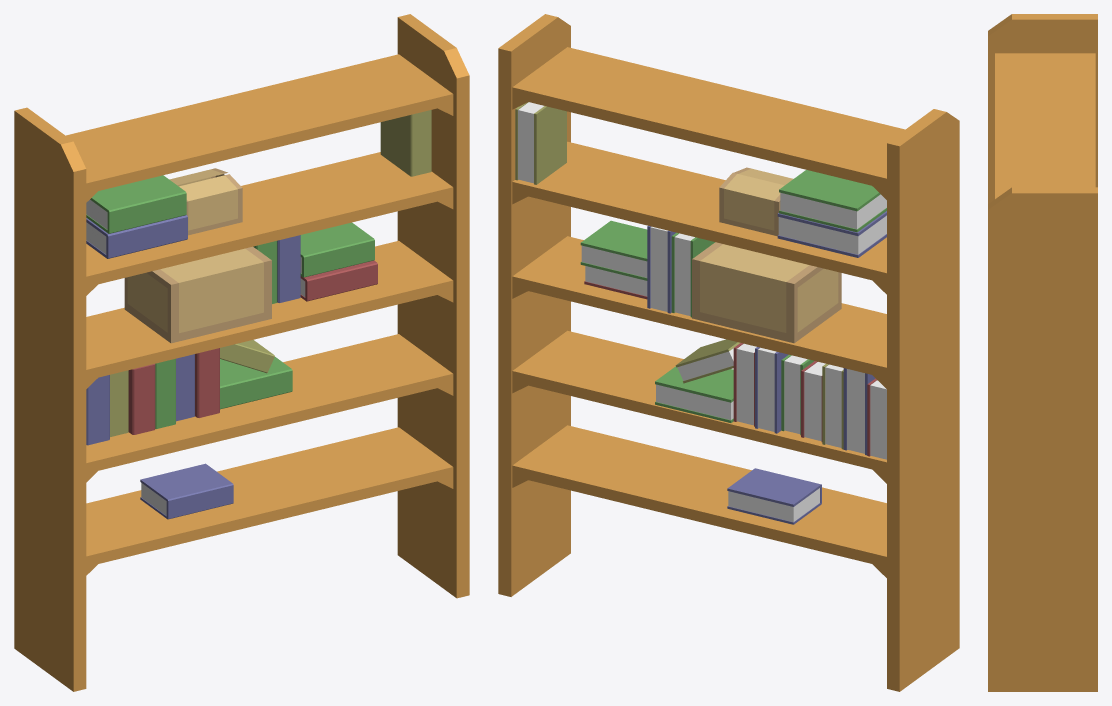
The model's file is shelf_wbooks.glb.
The picture shows the model from 3 angles, left to right: view 1: azimuth 30°, elevation 25°; view 2: azimuth 150°, elevation 25°; view 3: azimuth 270°, elevation 25°; orthographic projection. The views are drawn at different scales.
Visible parts, largest first — view 1: shelf_wbooks; view 2: shelf_wbooks; view 3: shelf_wbooks.
Part boxes in pixels (x1=…): shelf_wbooks: x1=14, y1=14, x2=469, y2=691; shelf_wbooks: x1=498, y1=14, x2=959, y2=691; shelf_wbooks: x1=988, y1=14, x2=1097, y2=691.
Size of the model in its own units: 1.86 by 2.42 by 0.4816.
